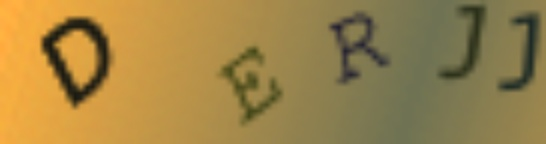D: (39, 12, 115, 110)
E: (213, 41, 291, 126)
J: (435, 3, 492, 85), (496, 9, 544, 95)
R: (324, 9, 395, 86)
